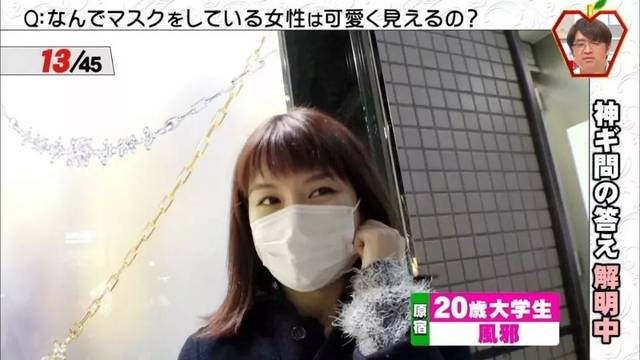mask: (242, 174, 378, 294)
